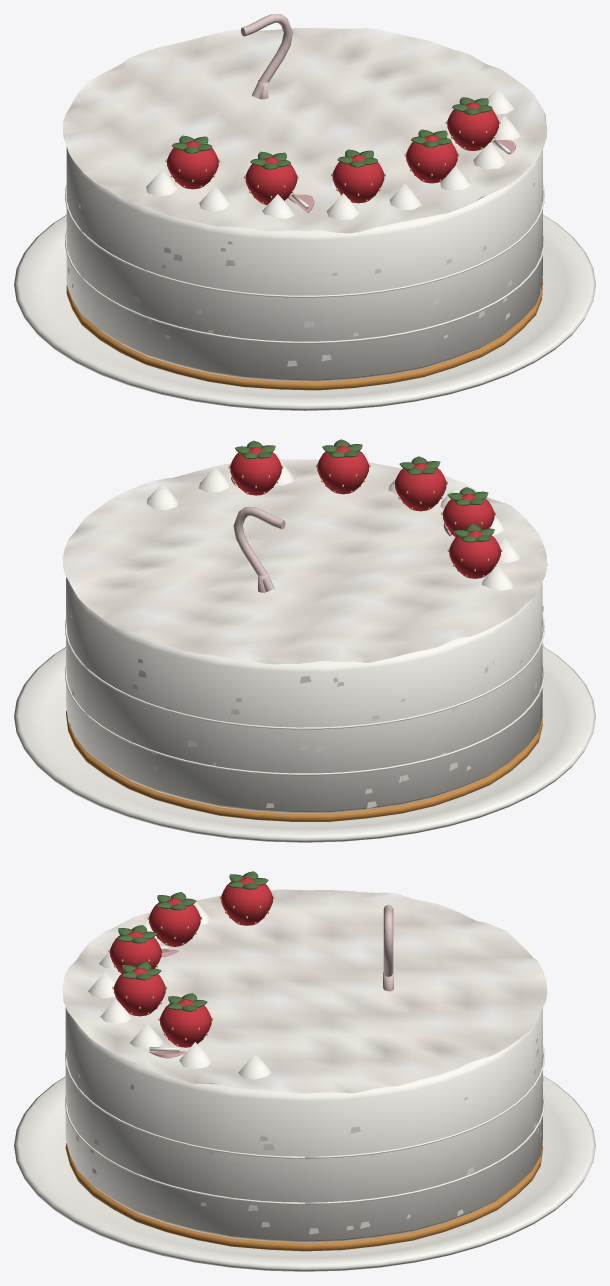
File: cake-07.9a37a0308d07.glb
3 renders of one model, top to bottom at view 1: azimuth 30°, elevation 25°; view 2: azimuth 150°, elevation 25°; view 3: azimuth 270°, elevation 25°, orthographic.
Parts seen in each view (by area): view 1: PART_FOOD_ROOT_MAT_cream, Irregular_hand_spread_food_surface, Clean_porcelain_plate, PART_FOOD_ROOT_MAT_strawberry, Exposed_thin_sponge_base, PART_FOOD_ROOT_MAT_leaf, PART_FOOD_ROOT_MAT_number_wax; view 2: PART_FOOD_ROOT_MAT_cream, Irregular_hand_spread_food_surface, Clean_porcelain_plate, PART_FOOD_ROOT_MAT_strawberry, Exposed_thin_sponge_base, PART_FOOD_ROOT_MAT_leaf, PART_FOOD_ROOT_MAT_number_wax; view 3: PART_FOOD_ROOT_MAT_cream, Irregular_hand_spread_food_surface, Clean_porcelain_plate, PART_FOOD_ROOT_MAT_strawberry, Exposed_thin_sponge_base, PART_FOOD_ROOT_MAT_leaf, PART_FOOD_ROOT_MAT_number_wax.
Boxes of the visible parts, x1,y1,x2,y2 form: PART_FOOD_ROOT_MAT_cream: (65, 88, 544, 381); Irregular_hand_spread_food_surface: (62, 28, 547, 233); Clean_porcelain_plate: (14, 214, 595, 410); PART_FOOD_ROOT_MAT_strawberry: (167, 102, 498, 205); Exposed_thin_sponge_base: (66, 279, 542, 390); PART_FOOD_ROOT_MAT_leaf: (172, 97, 492, 169); PART_FOOD_ROOT_MAT_number_wax: (241, 14, 292, 99); PART_FOOD_ROOT_MAT_cream: (65, 461, 544, 813); Irregular_hand_spread_food_surface: (62, 459, 547, 664); Clean_porcelain_plate: (14, 646, 595, 842); PART_FOOD_ROOT_MAT_strawberry: (230, 446, 500, 578); Exposed_thin_sponge_base: (66, 711, 542, 821); PART_FOOD_ROOT_MAT_leaf: (235, 439, 494, 542); PART_FOOD_ROOT_MAT_number_wax: (233, 507, 285, 592); PART_FOOD_ROOT_MAT_cream: (65, 902, 544, 1242); Irregular_hand_spread_food_surface: (62, 889, 547, 1093); Clean_porcelain_plate: (14, 1075, 595, 1271); PART_FOOD_ROOT_MAT_strawberry: (110, 877, 272, 1047); Exposed_thin_sponge_base: (65, 1142, 542, 1251); PART_FOOD_ROOT_MAT_leaf: (118, 871, 268, 1011); PART_FOOD_ROOT_MAT_number_wax: (383, 904, 393, 991).
Size of the model in its own units: 0.1952 by 0.0929 by 0.1952.
